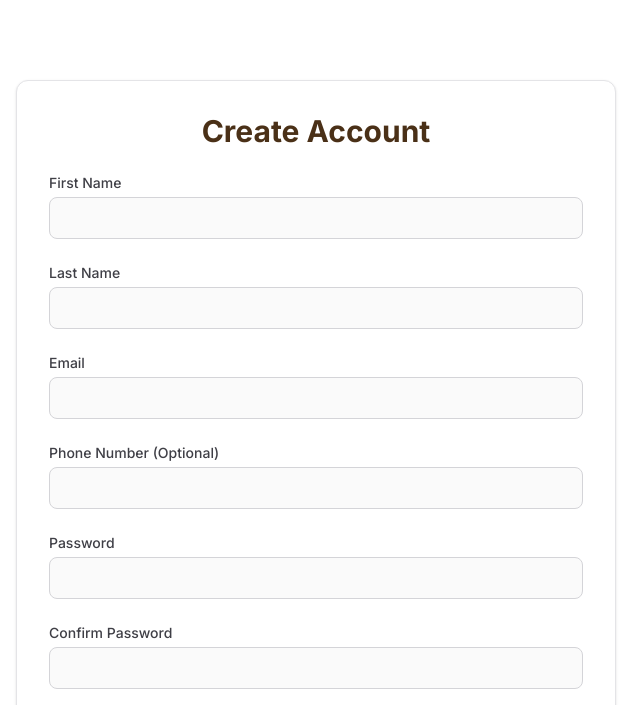
it: Registration Client › displays validation errors
The image size is (633, 705).
Note: Enter invalid phone number
In the field labelled "Phone Number (Optional)": point(316, 488) [49,467,583,509], type "Phone Number"
(page scrolled)
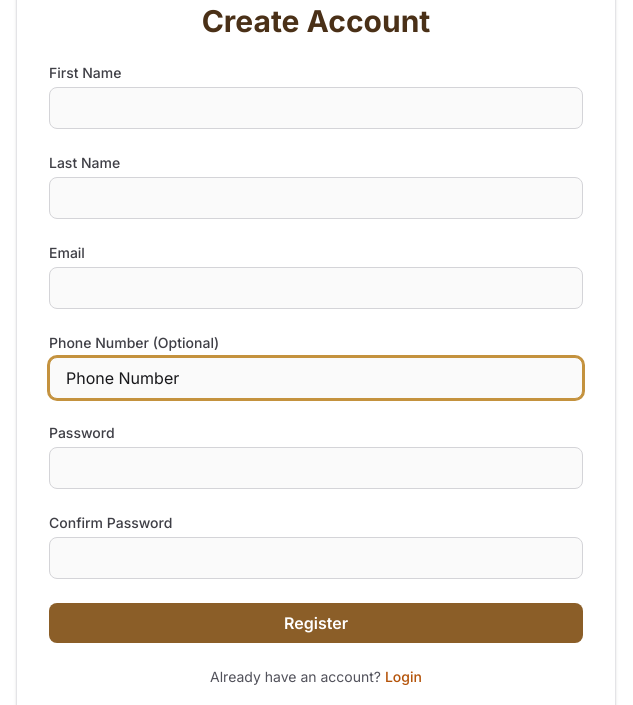
Note: Click submit to trigger validation errors
Click the button "Register": point(316, 623) [49,603,583,643]
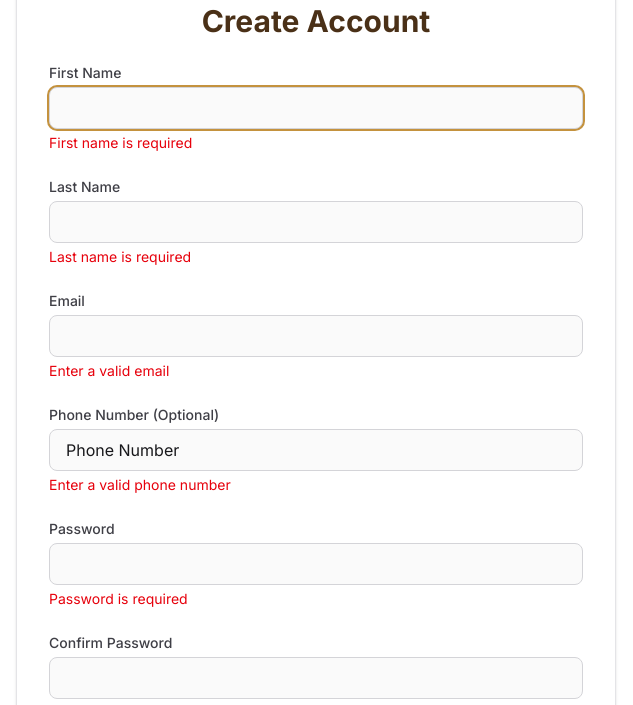
Result: the text "First name is required" is shown at [49,134,192,151]
Result: the text "Last name is required" is shown at [49,248,191,265]
Result: the text "Enter a valid email" is shown at [49,362,169,379]
